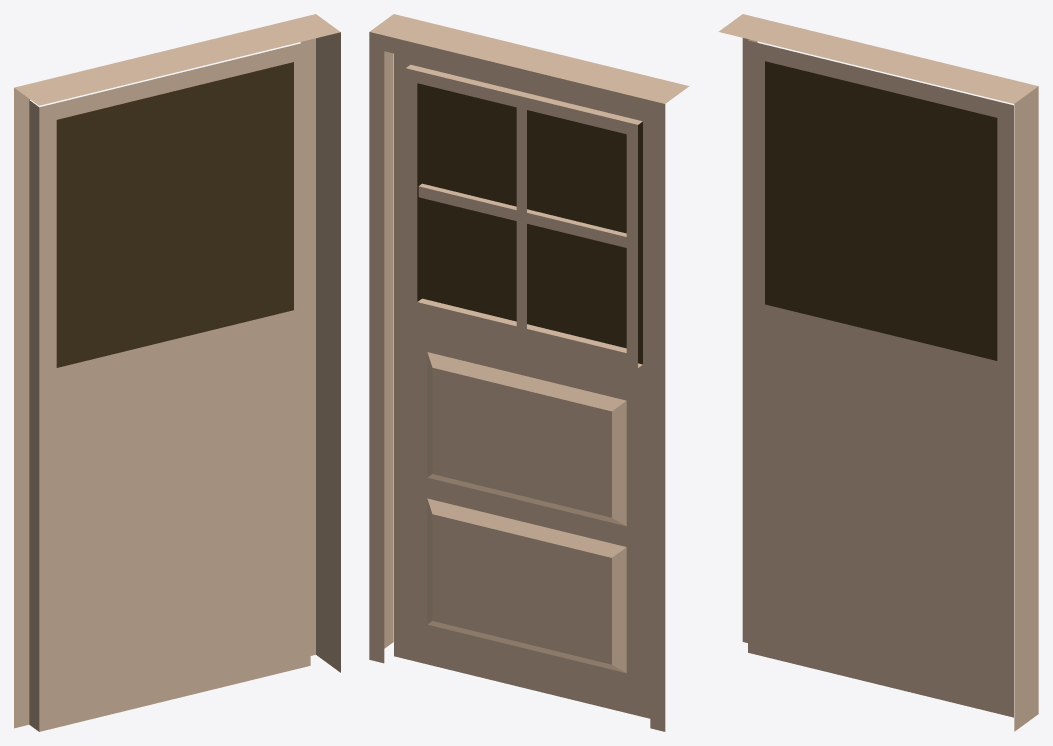
The model's file is Door.glb.
3 views of the same model, side by side, from view 1: azimuth 30°, elevation 25°; view 2: azimuth 150°, elevation 25°; view 3: azimuth 330°, elevation 25° (orthographic). The views are drawn at different scales.
Parts seen in each view (by area): view 1: Door; view 2: Door; view 3: Door.
Boxes of the visible parts, x1,y1,x2,y2 form: Door: (14,14,340,731); Door: (369,14,689,731); Door: (718,14,1038,731).
Bounding box in the file's own units: 140 × 284 × 20.
